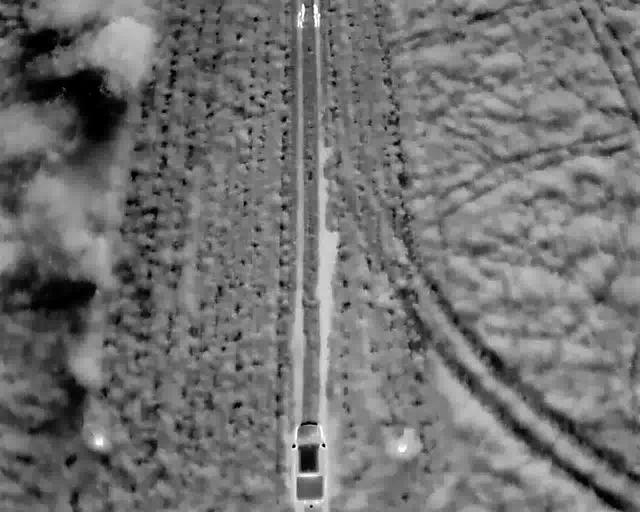car: (290, 417, 329, 506)
